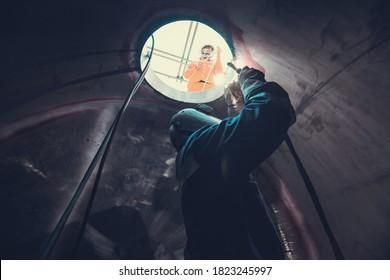gloves: (224, 77, 245, 119)
